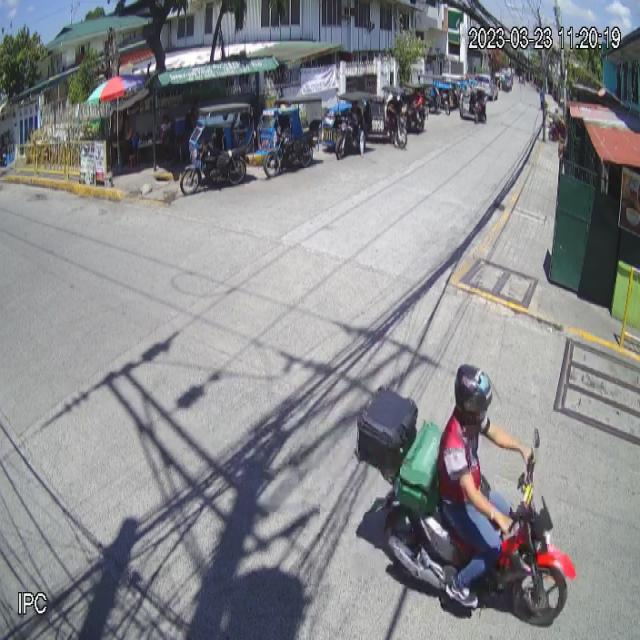Motorcycle: (354, 384, 577, 626)
